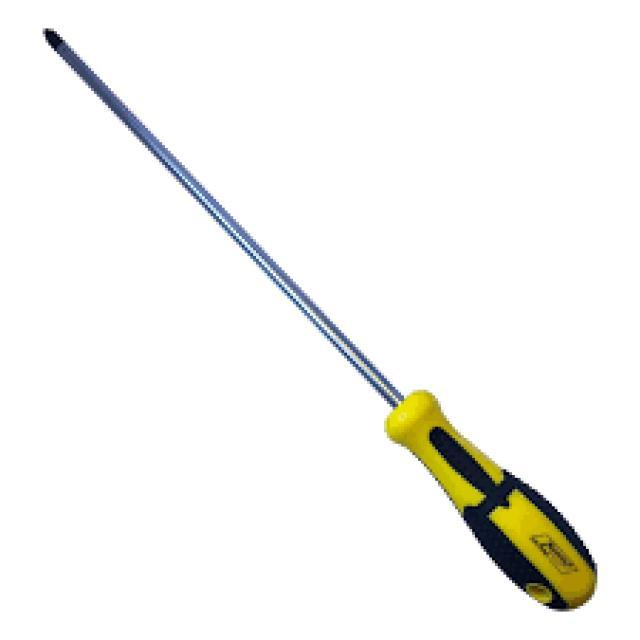screwdriver: (36, 21, 602, 616)
